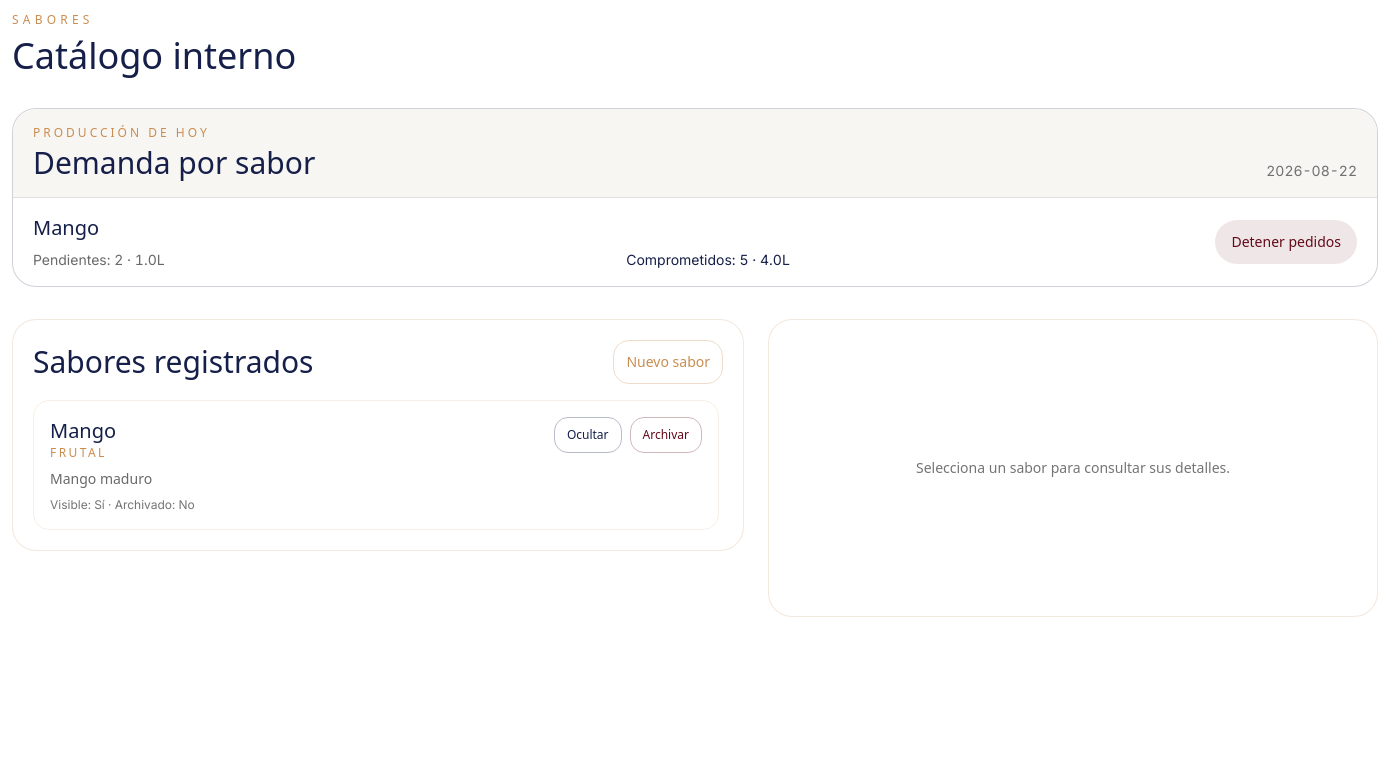
Test: AdminFlavorsPage production demand › shows today's demand and stops new orders from the same row
The image size is (1378, 780).
Expected: the text "Pendientes: 2 · 1.0L" is shown, [33, 251, 165, 268]
Expected: the text "Comprometidos: 5 · 4.0L" is shown, [626, 251, 790, 268]
Click the button "Detener pedidos".
click(1286, 242)  # box [1215, 220, 1357, 264]
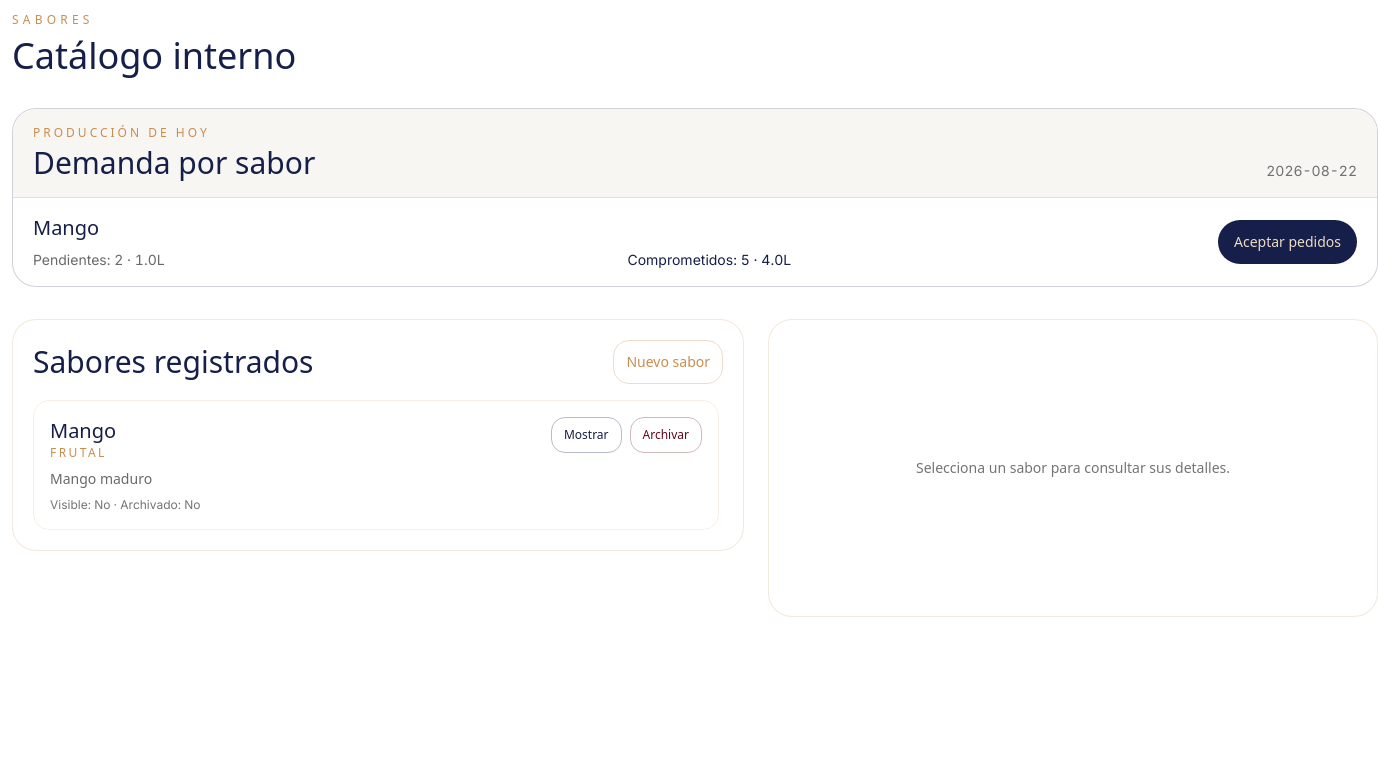
Result: the button "Aceptar pedidos" is shown at [1218, 220, 1357, 264]
